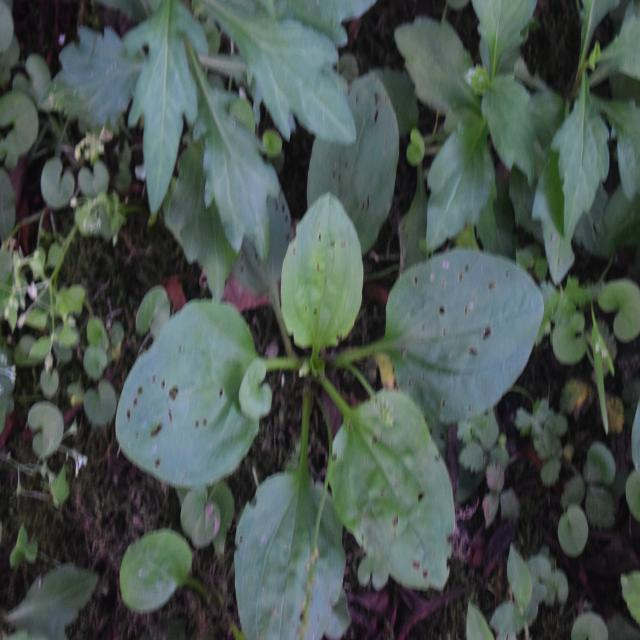plantain: (125, 139, 534, 615)
